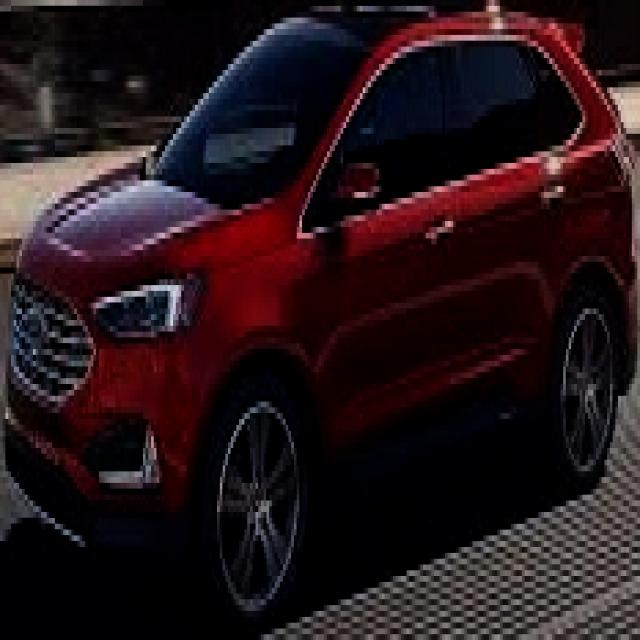maroon: (11, 7, 640, 583)
